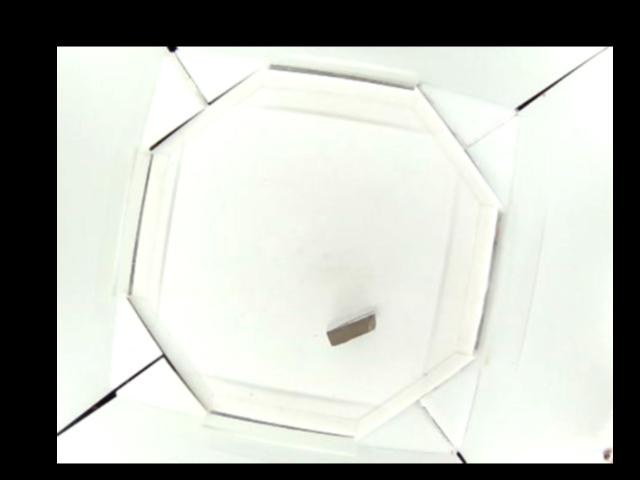China: (325, 311, 379, 348)
